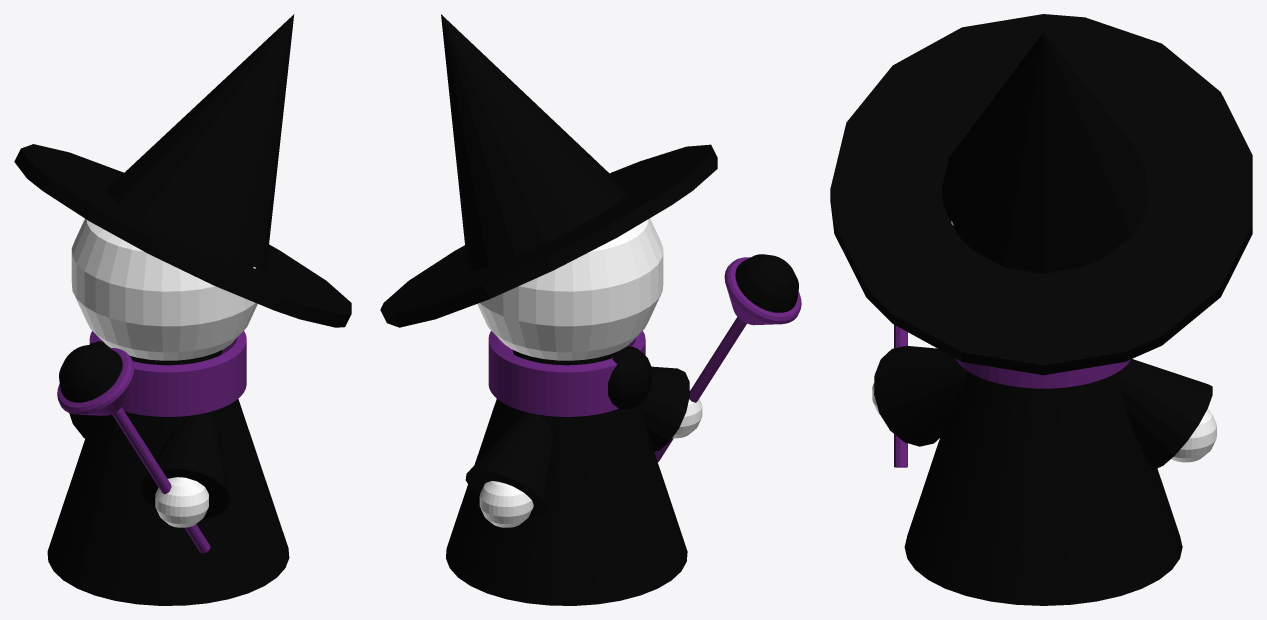
The model's file is wizardv6.fbx.
The picture shows the model from 3 angles, left to right: view 1: azimuth 30°, elevation 25°; view 2: azimuth 150°, elevation 25°; view 3: azimuth 270°, elevation 25°; orthographic projection. The views are drawn at different scales.
Visible parts, largest first — view 1: Sphere.003; view 2: Sphere.003; view 3: Sphere.003.
Boxes of the visible parts, bbox=[...] form: Sphere.003: bbox=[14, 14, 351, 605]; Sphere.003: bbox=[380, 14, 801, 605]; Sphere.003: bbox=[830, 14, 1252, 605].
Size of the model in its own units: 30.95 by 46.46 by 30.39.
